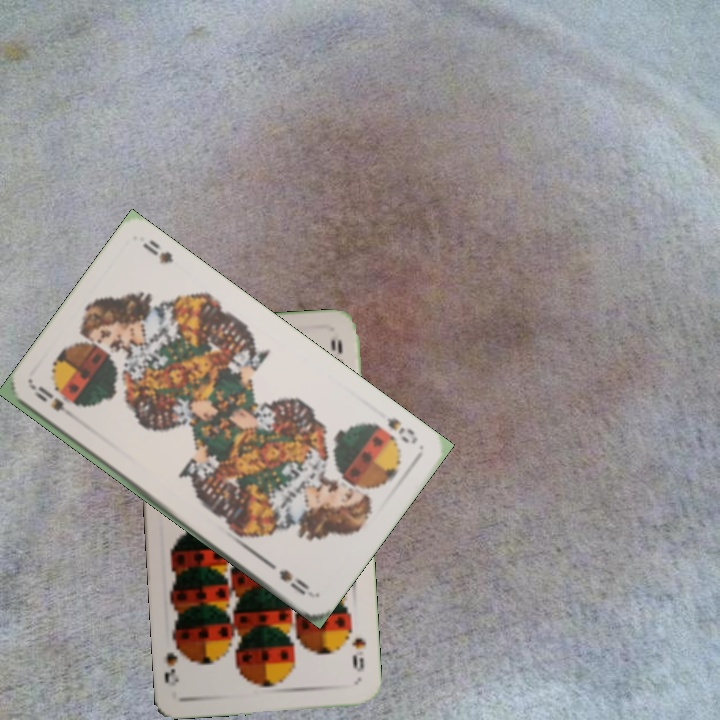S9: (347, 634, 368, 674)
SO: (29, 381, 82, 424), (382, 413, 421, 447)
